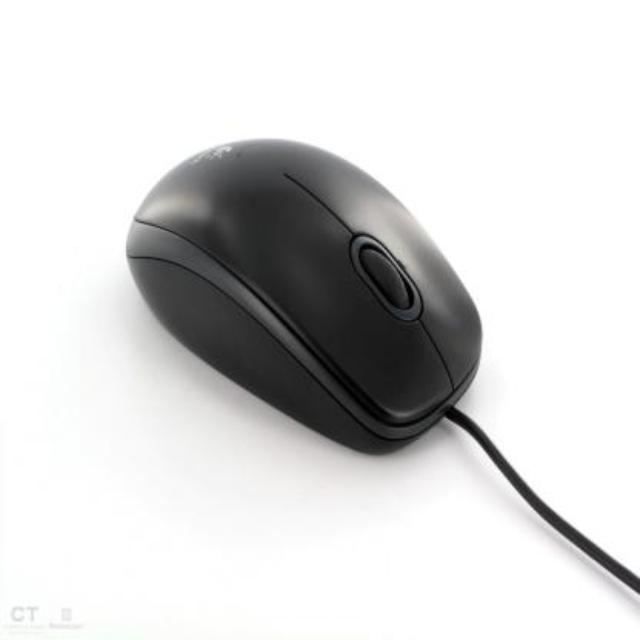Computer-Mouse: (79, 84, 504, 510)
